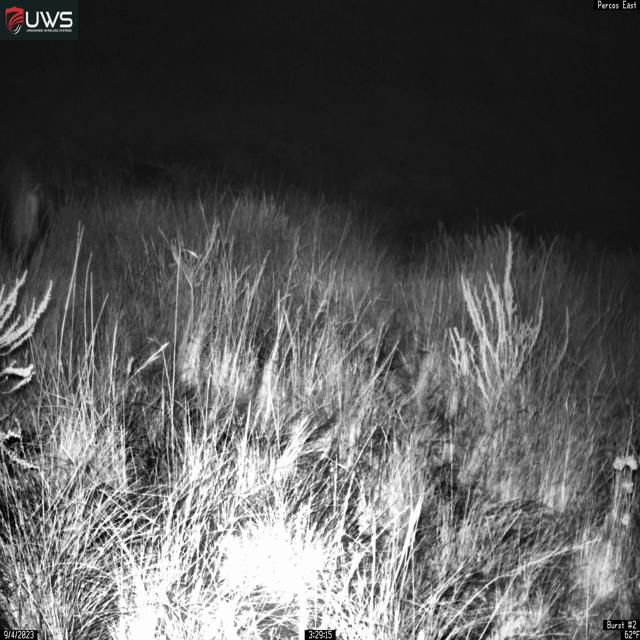pig: (0, 151, 52, 272)
